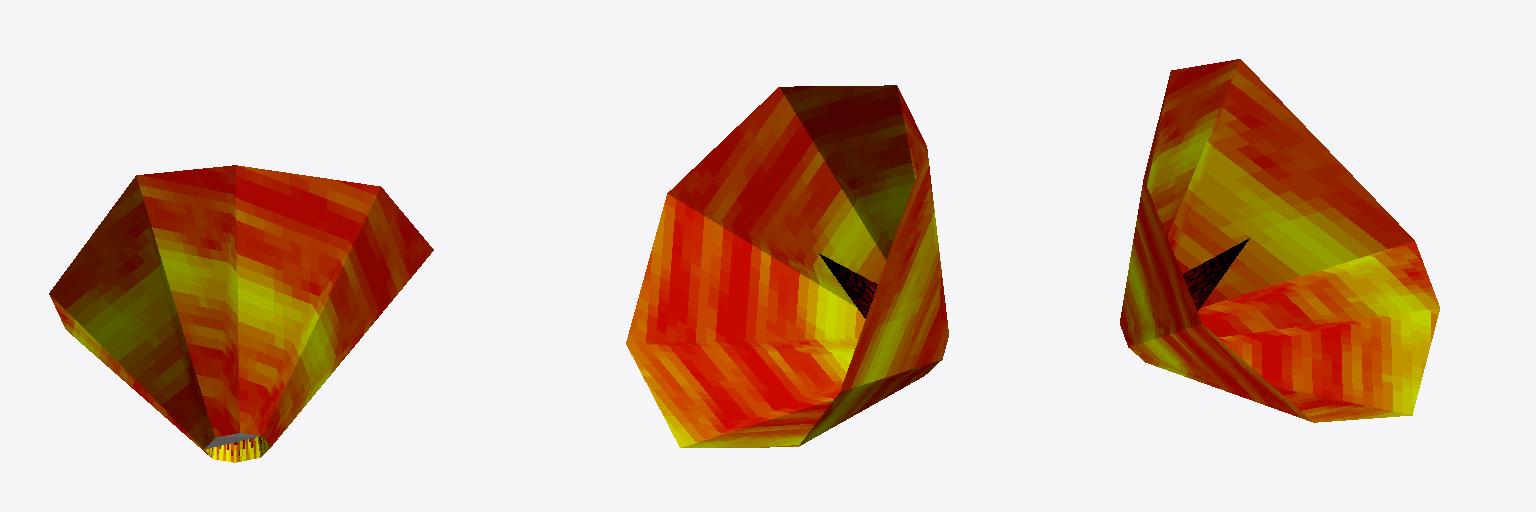
3 views of the same model, side by side, from view 1: azimuth 30°, elevation 25°; view 2: azimuth 150°, elevation 25°; view 3: azimuth 270°, elevation 25° (orthographic).
Visible parts, largest first — view 1: turbo3; view 2: turbo3; view 3: turbo3.
Part boxes in pixels (left/top/right/bottom): turbo3: left=49, top=165, right=433, bottom=462; turbo3: left=626, top=85, right=948, bottom=447; turbo3: left=1120, top=59, right=1439, bottom=422.
Size of the model in its own units: 1.25 by 1.27 by 1.24.
Materials: 9 (9 with a texture image).